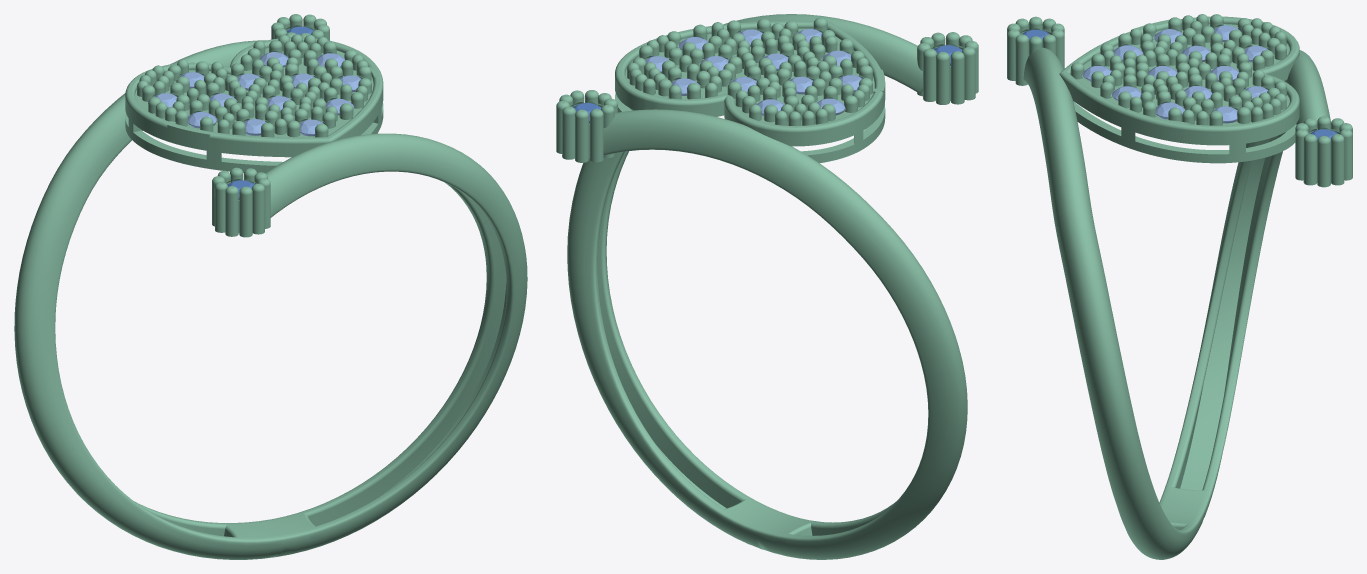
3 views of the same model, side by side, from view 1: azimuth 30°, elevation 25°; view 2: azimuth 150°, elevation 25°; view 3: azimuth 270°, elevation 25° (orthographic). The views are drawn at different scales.
Parts seen in each view (by area): view 1: Anel38 Coraçao N°19 Render.3dm; view 2: Anel38 Coraçao N°19 Render.3dm; view 3: Anel38 Coraçao N°19 Render.3dm.
Part boxes in pixels (bbox=[...]): Anel38 Coraçao N°19 Render.3dm: bbox=[14, 14, 527, 559]; Anel38 Coraçao N°19 Render.3dm: bbox=[556, 14, 978, 559]; Anel38 Coraçao N°19 Render.3dm: bbox=[1007, 14, 1352, 559].
Bounding box in the file's own units: 2.54 × 2.58 × 1.71.
